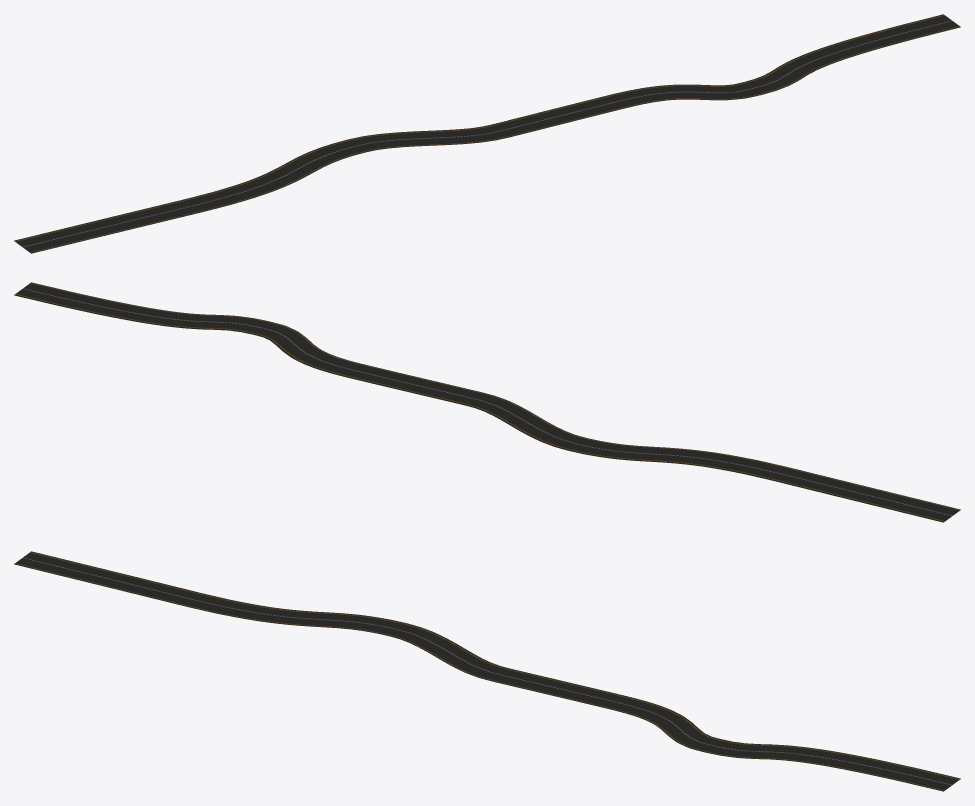
File: straightTrack.fbx
The picture shows the model from 3 angles, top to bottom: view 1: azimuth 30°, elevation 25°; view 2: azimuth 150°, elevation 25°; view 3: azimuth 330°, elevation 25°; orthographic projection.
Visible parts, largest first — view 1: Cube; view 2: Cube; view 3: Cube.
Part boxes in pixels (box(x1,y1,x2,y2)): Cube: box(14, 14, 960, 253); Cube: box(14, 282, 960, 522); Cube: box(14, 551, 960, 791).
Size of the model in its own units: 61756 by 20 by 6613.
